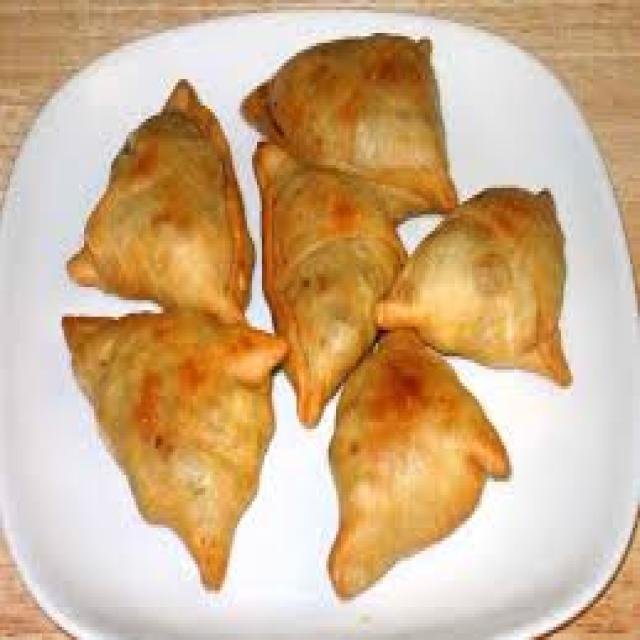SAMOSA: (67, 310, 279, 587), (329, 330, 507, 594), (69, 79, 252, 320), (259, 142, 403, 422), (378, 188, 568, 376), (267, 40, 455, 208)
